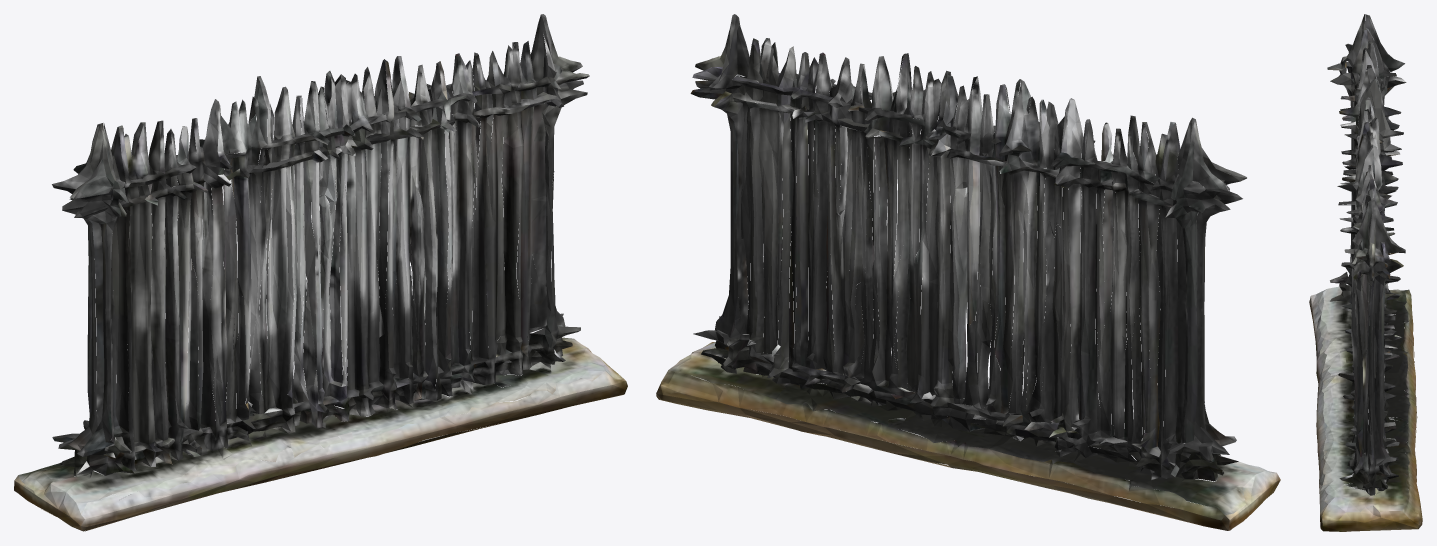
The model's file is wt-wasteland-thorn-palisade.glb.
3 views of the same model, side by side, from view 1: azimuth 30°, elevation 25°; view 2: azimuth 150°, elevation 25°; view 3: azimuth 270°, elevation 25° (orthographic). The views are drawn at different scales.
Visible parts, largest first — view 1: tmp2avd_h5c.ply; view 2: tmp2avd_h5c.ply; view 3: tmp2avd_h5c.ply.
Part boxes in pixels (x1,y1,x2,y2): tmp2avd_h5c.ply: [14, 14, 627, 531]; tmp2avd_h5c.ply: [656, 14, 1280, 530]; tmp2avd_h5c.ply: [1309, 14, 1422, 531].
Bounding box in the file's own units: 6 × 3.87 × 1.25.
Materials: 1 (1 with a texture image).
